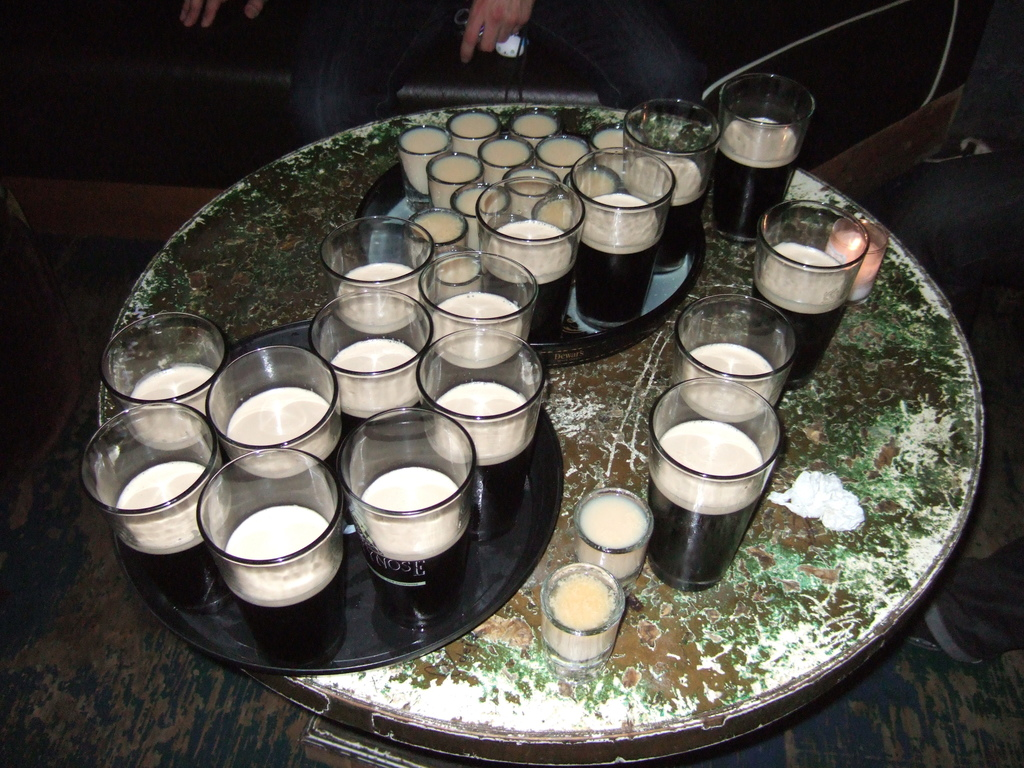Beer: (77, 382, 248, 611), (334, 397, 497, 608), (396, 332, 544, 549), (188, 442, 353, 629), (657, 362, 769, 599), (758, 192, 861, 399), (188, 344, 343, 476), (566, 142, 672, 332), (619, 95, 729, 276), (479, 159, 579, 355), (307, 289, 434, 438), (670, 291, 808, 419), (720, 69, 817, 242), (416, 236, 542, 362), (98, 316, 231, 433), (321, 214, 443, 319)
